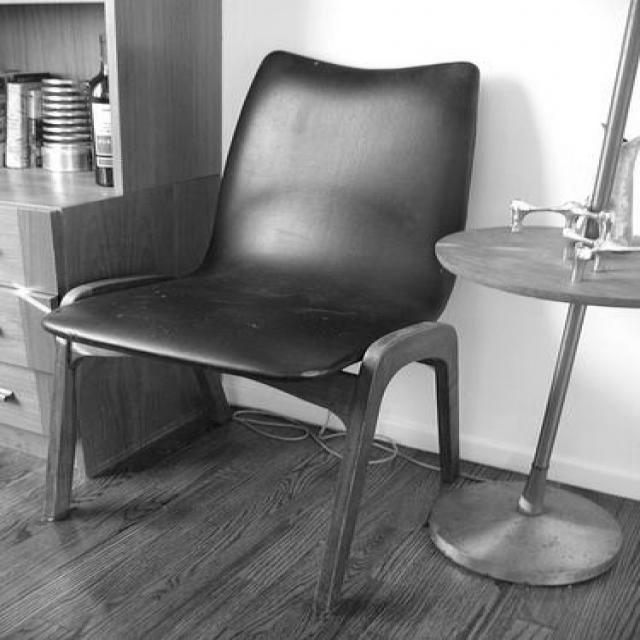chair: (46, 48, 502, 624)
